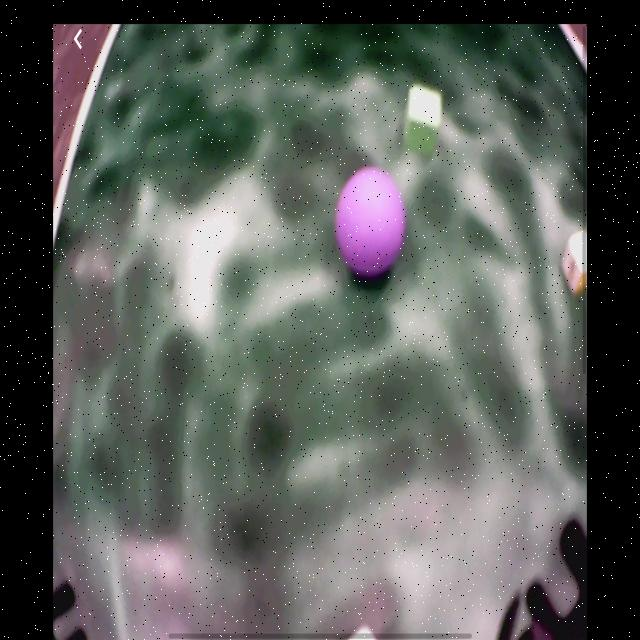ball: (336, 166, 406, 274)
